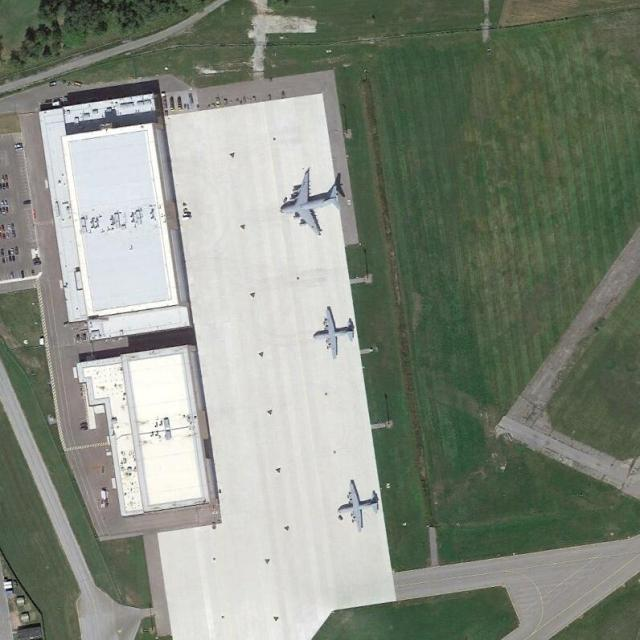fighter jet: (282, 174, 348, 235), (311, 306, 362, 358), (341, 477, 382, 531)
